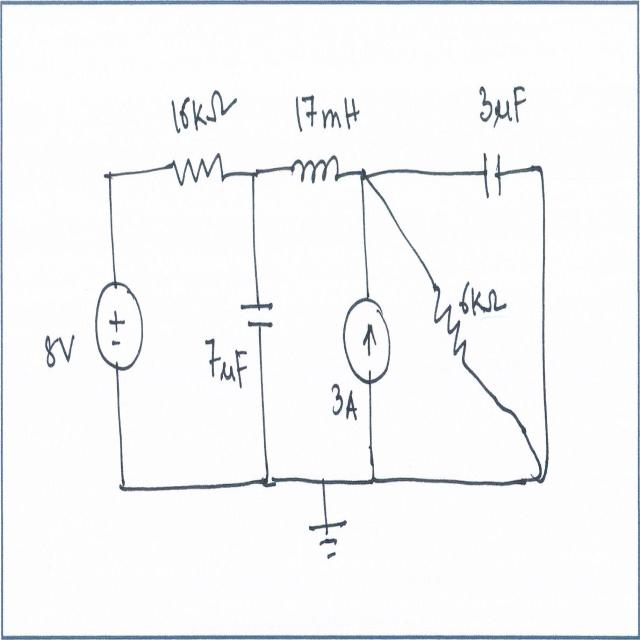capacitor: (238, 297, 280, 338), (480, 147, 506, 208)
current_source: (342, 290, 397, 394)
ground: (304, 517, 350, 565)
inductor: (286, 147, 340, 193)
resistor: (432, 280, 468, 370), (169, 147, 225, 200)
voltage_source: (91, 279, 145, 373)
